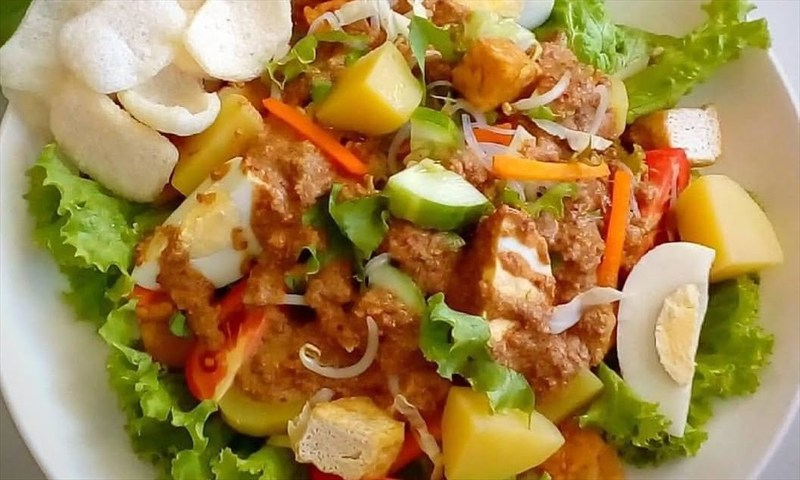Gado-Gado: (127, 59, 688, 437)
